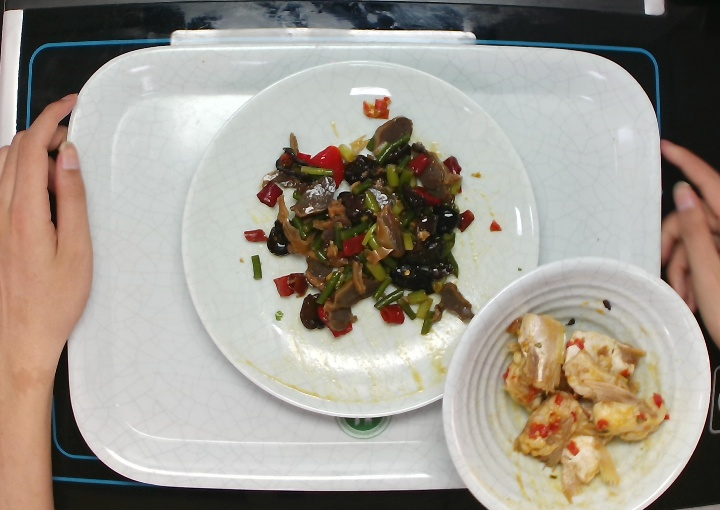JYsf-Da_Yuan_Pan: (176, 61, 544, 419)
JYsf-Xiao_Tang_Wan: (441, 252, 712, 510)
